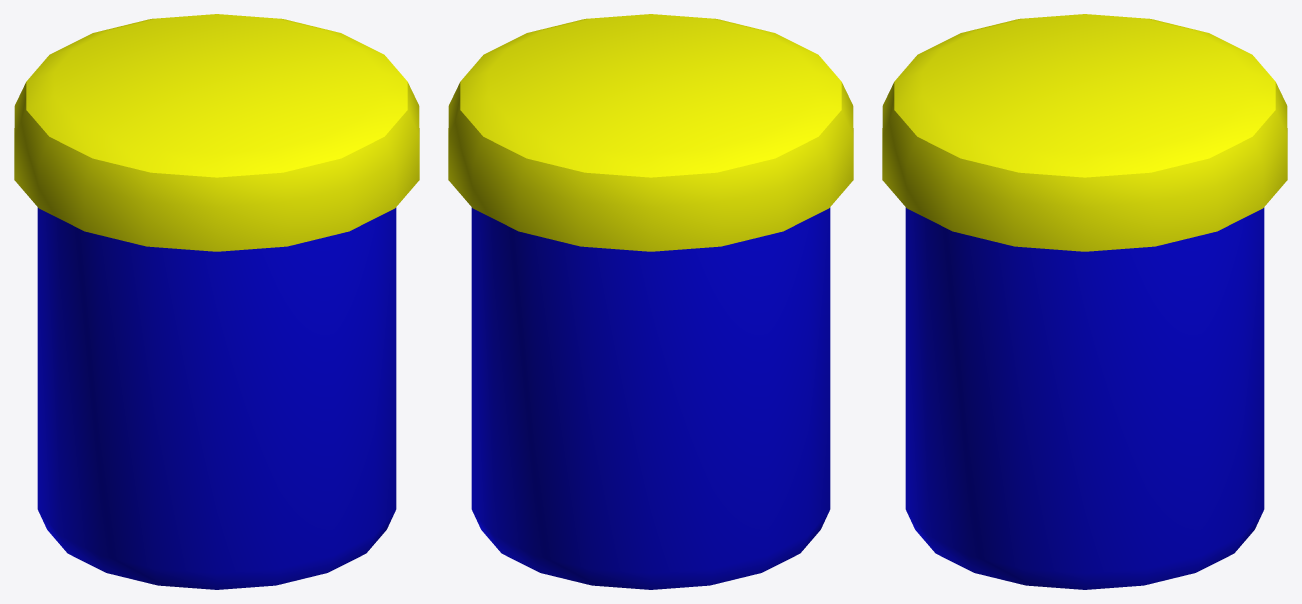
File: Jar.FBX
3 views of the same model, side by side, from view 1: azimuth 30°, elevation 25°; view 2: azimuth 150°, elevation 25°; view 3: azimuth 270°, elevation 25° (orthographic).
Visible parts, largest first — view 1: Lid_Low; view 2: Lid_Low; view 3: Lid_Low.
Part boxes in pixels (x1,y1,x2,y2): Lid_Low: [14, 14, 419, 589]; Lid_Low: [448, 14, 853, 589]; Lid_Low: [882, 14, 1287, 589].
Size of the model in its own units: 9.02 by 10.72 by 8.88.
